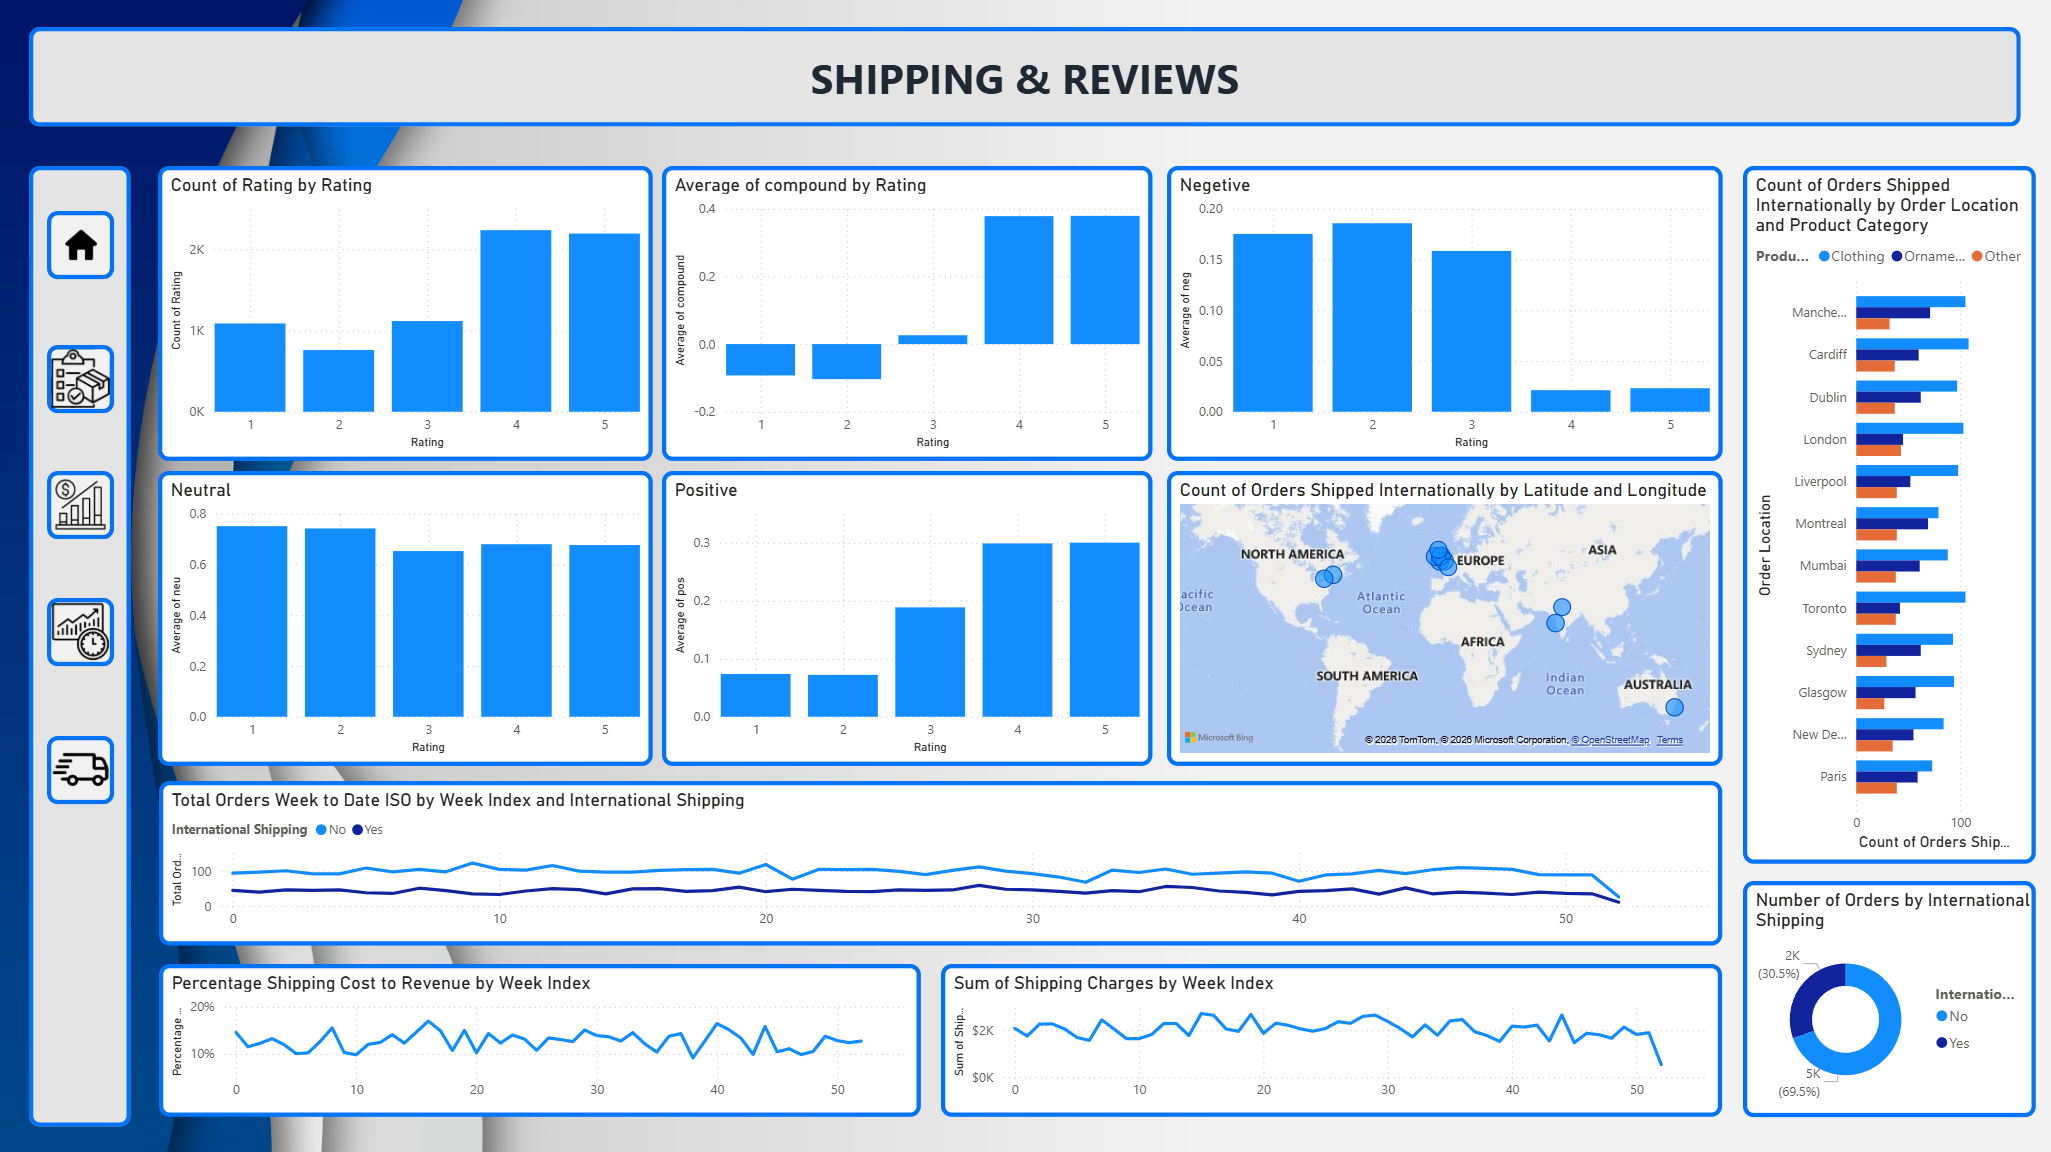

This screenshot's page, from the dashboard's own definition file:
{"tool":"powerbi","page":{"name":"Shipping & Reviews","canvas":[1920,1080],"ordinal":4},"visuals":[{"type":"shape","box":[27.5,26.5,1864,93.3],"z":0},{"type":"shape","box":[27.5,156.1,95.2,899.1],"z":1000},{"type":"actionButton","box":[44.2,198.3,62.8,63.8],"z":2000},{"type":"actionButton","box":[44.2,323.9,62.8,63.8],"z":3000},{"type":"actionButton","box":[44.2,441.7,62.8,63.8],"z":4000},{"type":"actionButton","box":[44.2,560.5,62.8,63.8],"z":5000},{"type":"actionButton","box":[44.2,690.1,62.8,63.8],"z":6000},{"type":"lineChart","fields":{"Category":["Calendar_454.Week Index"],"Y":["Sales.Total Orders Week to Date ISO"],"Series":["Sales.International Shipping"]},"box":[149,732,1463,154],"z":7000},{"type":"lineChart","fields":{"Category":["Calendar_454.Week Index"],"Y":["Sum(Sales.Shipping Charges)"]},"box":[881,903,731,143],"z":8000},{"type":"lineChart","fields":{"Category":["Calendar_454.Week Index"],"Y":["Sales.Percentage Shipping Cost to Revenue"]},"box":[149,903,713,143],"z":9000},{"type":"clusteredColumnChart","fields":{"Category":["Sales.Rating"],"Y":["CountNonNull(Sales.Rating)"]},"box":[148,156,463,276],"z":10000},{"type":"clusteredColumnChart","fields":{"Category":["Sales.Rating"],"Y":["Avg(sentiment_scores.compound)"]},"box":[620,156,459,276],"z":11000},{"type":"clusteredColumnChart","title":"Positive","fields":{"Category":["Sales.Rating"],"Y":["Avg(sentiment_scores.pos)"]},"box":[620,442,459,276],"z":12000},{"type":"clusteredColumnChart","title":"Neutral","fields":{"Category":["Sales.Rating"],"Y":["Avg(sentiment_scores.neu)"]},"box":[148,442,463,276],"z":13000},{"type":"clusteredColumnChart","title":"Negetive","fields":{"Category":["Sales.Rating"],"Y":["Avg(sentiment_scores.neg)"]},"box":[1092,156,520,276],"z":14000},{"type":"map","fields":{"Y":["Sales.Latitude"],"X":["Sales.Longitude"],"Size":["Sales.Count of Orders Shipped Internationally"]},"box":[1092,442,520,276],"z":15000},{"type":"clusteredBarChart","fields":{"Y":["Sales.Count of Orders Shipped Internationally"],"Category":["Sales.Order Location"],"Series":["Sales.Product Category"]},"box":[1631,156,274,653],"z":16000},{"type":"donutChart","fields":{"Category":["Sales.International Shipping"],"Y":["Sales.Number of Orders"]},"box":[1631,825,274,221],"z":17000}]}

Visuals, with their boxes in screenshot pixels (x1, y1, x2, y2), scaled from the page's 1920x1080 canvas onto the 2051x1152 screenshot:
shape: 29,28,2021,128
shape: 29,167,131,1126
actionButton: 47,212,114,280
actionButton: 47,345,114,414
actionButton: 47,471,114,539
actionButton: 47,598,114,666
actionButton: 47,736,114,804
lineChart - Calendar_454.Week Index x Sales.Total Orders Week to Date ISO: 159,781,1722,945
lineChart - Calendar_454.Week Index x Sum(Sales.Shipping Charges): 941,963,1722,1116
lineChart - Calendar_454.Week Index x Sales.Percentage Shipping Cost to Revenue: 159,963,921,1116
clusteredColumnChart - Sales.Rating x CountNonNull(Sales.Rating): 158,166,653,461
clusteredColumnChart - Sales.Rating x Avg(sentiment_scores.compound): 662,166,1153,461
"Positive" clusteredColumnChart: 662,471,1153,766
"Neutral" clusteredColumnChart: 158,471,653,766
"Negetive" clusteredColumnChart: 1167,166,1722,461
map - Sales.Latitude x Sales.Longitude: 1167,471,1722,766
clusteredBarChart - Sales.Count of Orders Shipped Internationally x Sales.Order Location: 1742,166,2035,863
donutChart - Sales.International Shipping x Sales.Number of Orders: 1742,880,2035,1116
